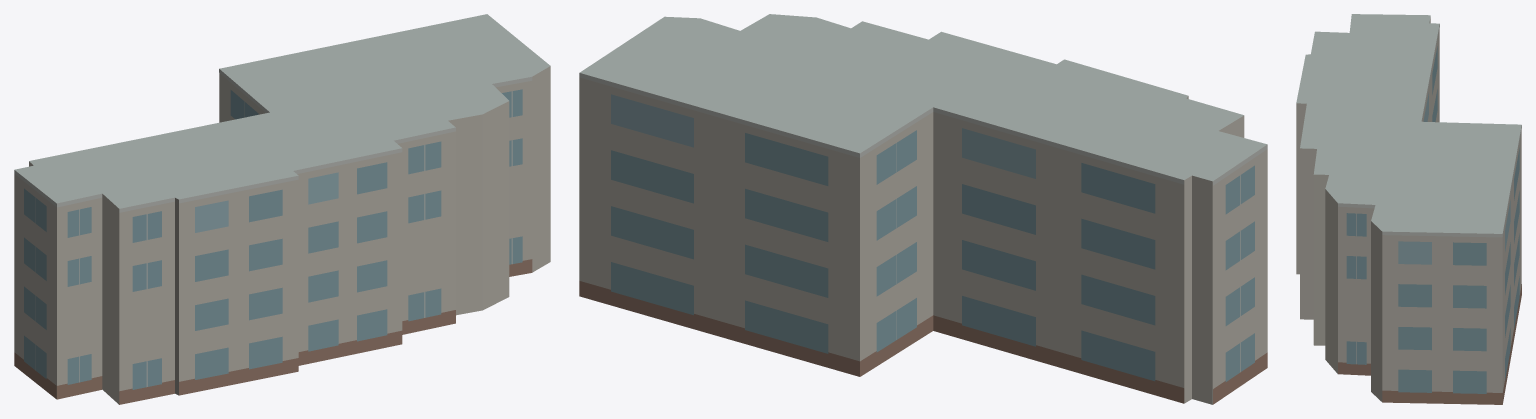
File: survey-upis-32534986.glb
The picture shows the model from 3 angles, left to right: view 1: azimuth 30°, elevation 25°; view 2: azimuth 150°, elevation 25°; view 3: azimuth 270°, elevation 25°; orthographic projection. The views are drawn at different scales.
Visible parts, largest first — view 1: survey-upis-32534986.tmp; view 2: survey-upis-32534986.tmp; view 3: survey-upis-32534986.tmp.
Boxes of the visible parts, bbox=[...] form: survey-upis-32534986.tmp: bbox=[14, 14, 550, 404]; survey-upis-32534986.tmp: bbox=[579, 14, 1267, 404]; survey-upis-32534986.tmp: bbox=[1296, 14, 1521, 404].
Bounding box in the file's own units: 32.85 × 11.9 × 14.24.
